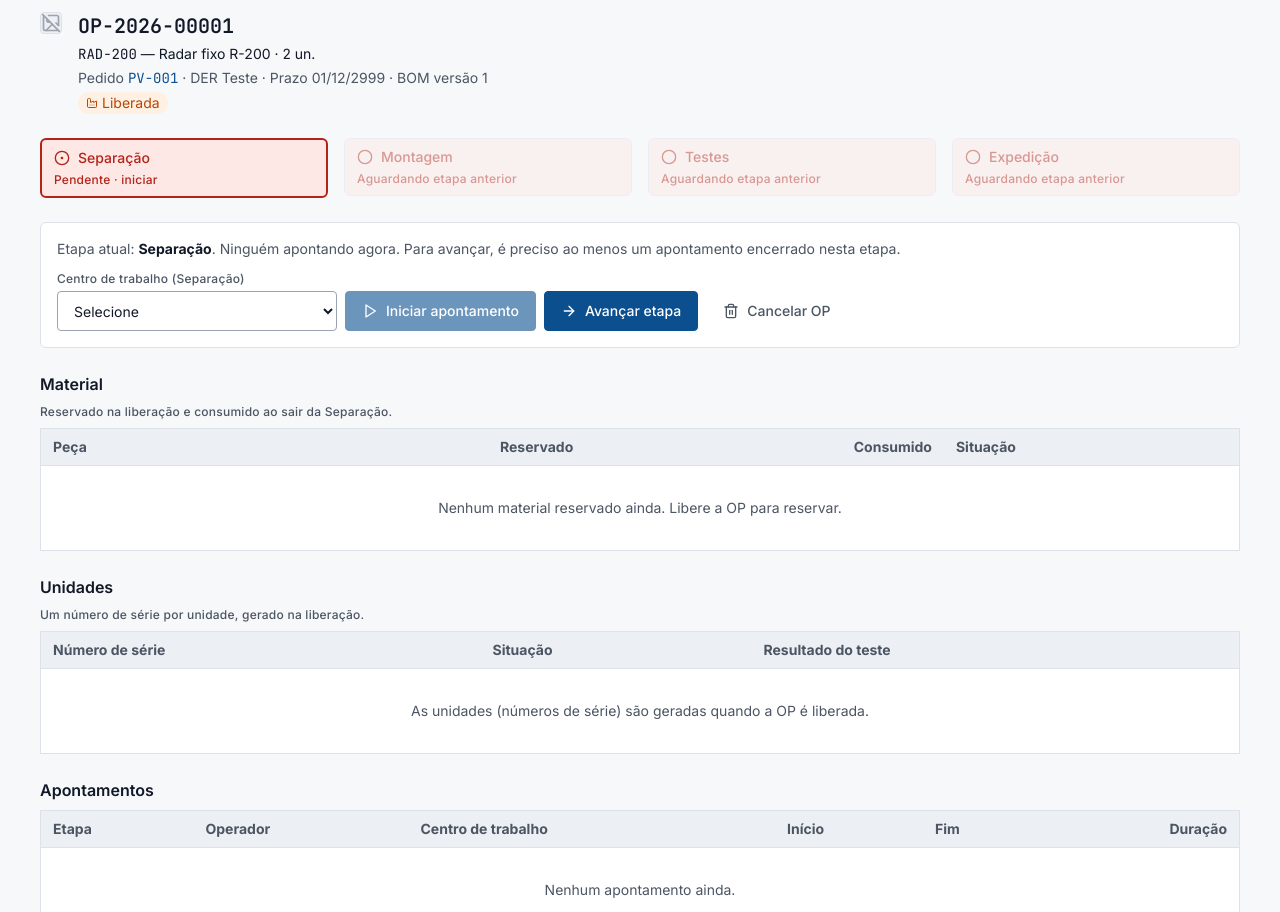
it: DetalheOP › inicia o apontamento com centro da etapa atual, encerra e avanca
Check: the button "Iniciar apontamento" is disabled, box [345,291,536,331]
Select "SEP-01 — Bancada de separação" in the dropdown labelled "Centro de trabalho (Separação)" at [197, 311], box [57,291,337,331]
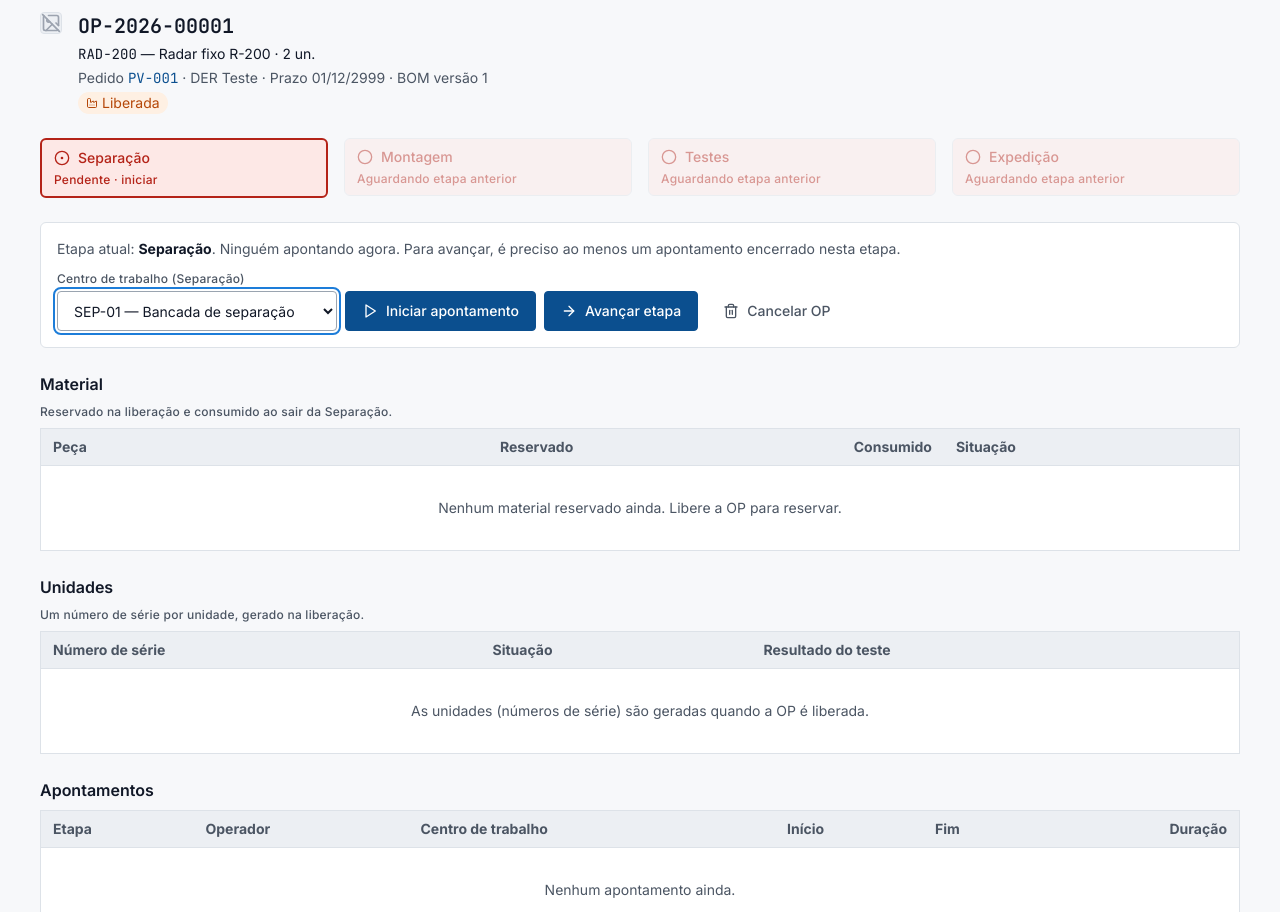
Click the button "Iniciar apontamento".
click(440, 311)  # box [345,291,536,331]
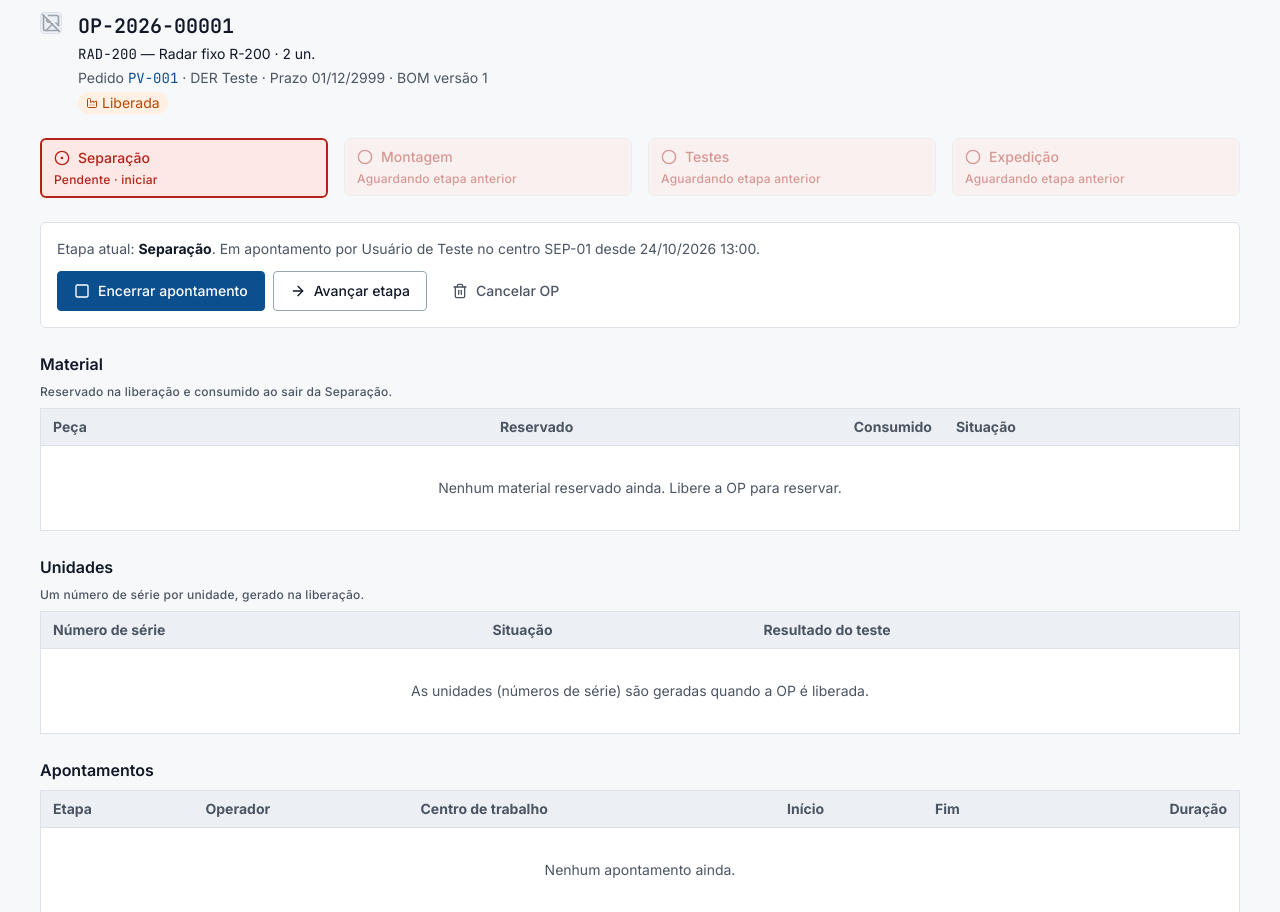
Check: the text "Em apontamento por Usuário de Teste no centro SEP-01" is shown, box [220,240,760,257]
Check: the button "Encerrar apontamento" is shown, box [57,271,265,311]
Click the button "Avançar etapa".
click(350, 291)  # box [273,271,427,311]
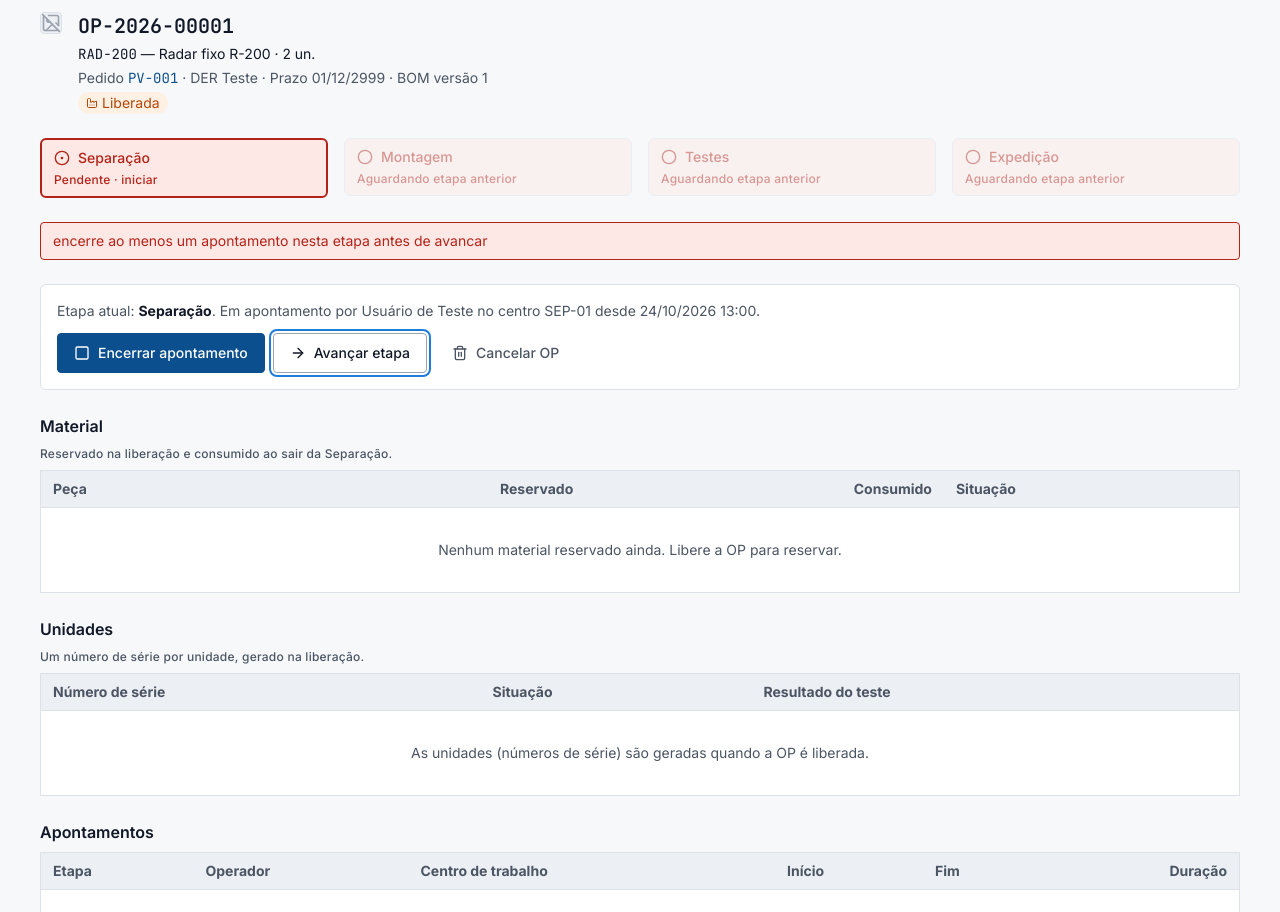
Check: the message shows "encerre ao menos um apontamento nesta etapa", box [53,232,487,249]
